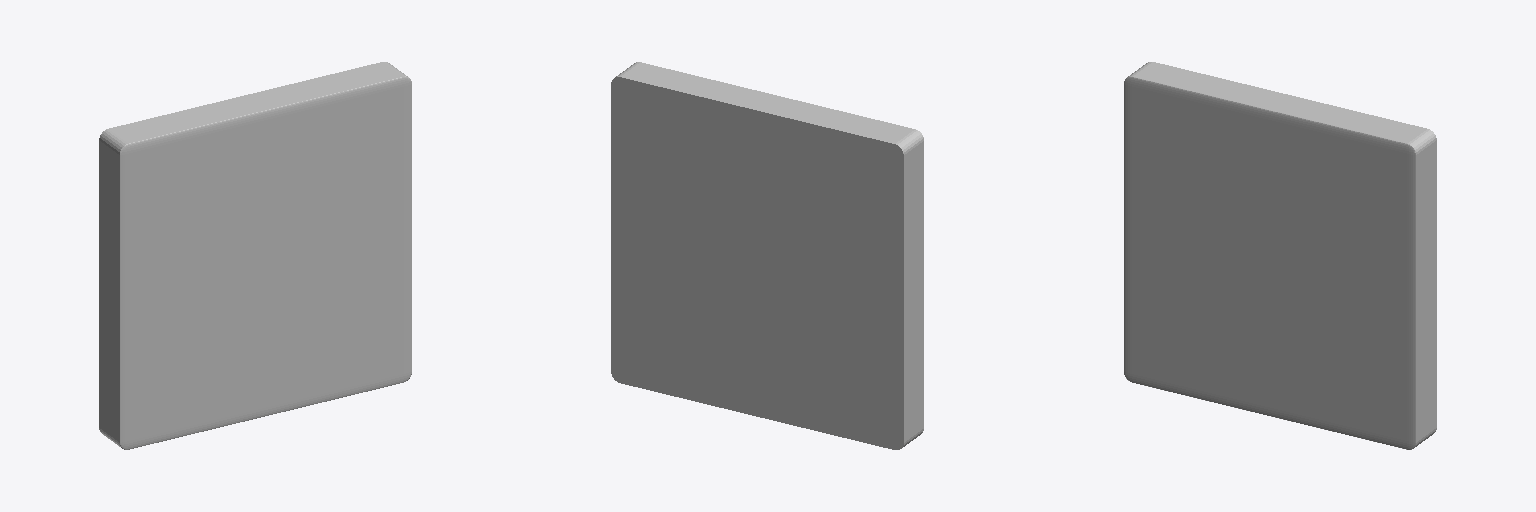
Rendered from gps.obj.
The picture shows the model from 3 angles: view 1: azimuth 30°, elevation 25°; view 2: azimuth 150°, elevation 25°; view 3: azimuth 330°, elevation 25°; orthographic projection.
Visible parts, largest first — view 1: Cube; view 2: Cube; view 3: Cube.
Part boxes in pixels (x1,y1,x2,y2): Cube: (99,62,411,449); Cube: (611,62,923,449); Cube: (1124,62,1436,449).
Size of the model in its own units: 2 by 2 by 0.2496.